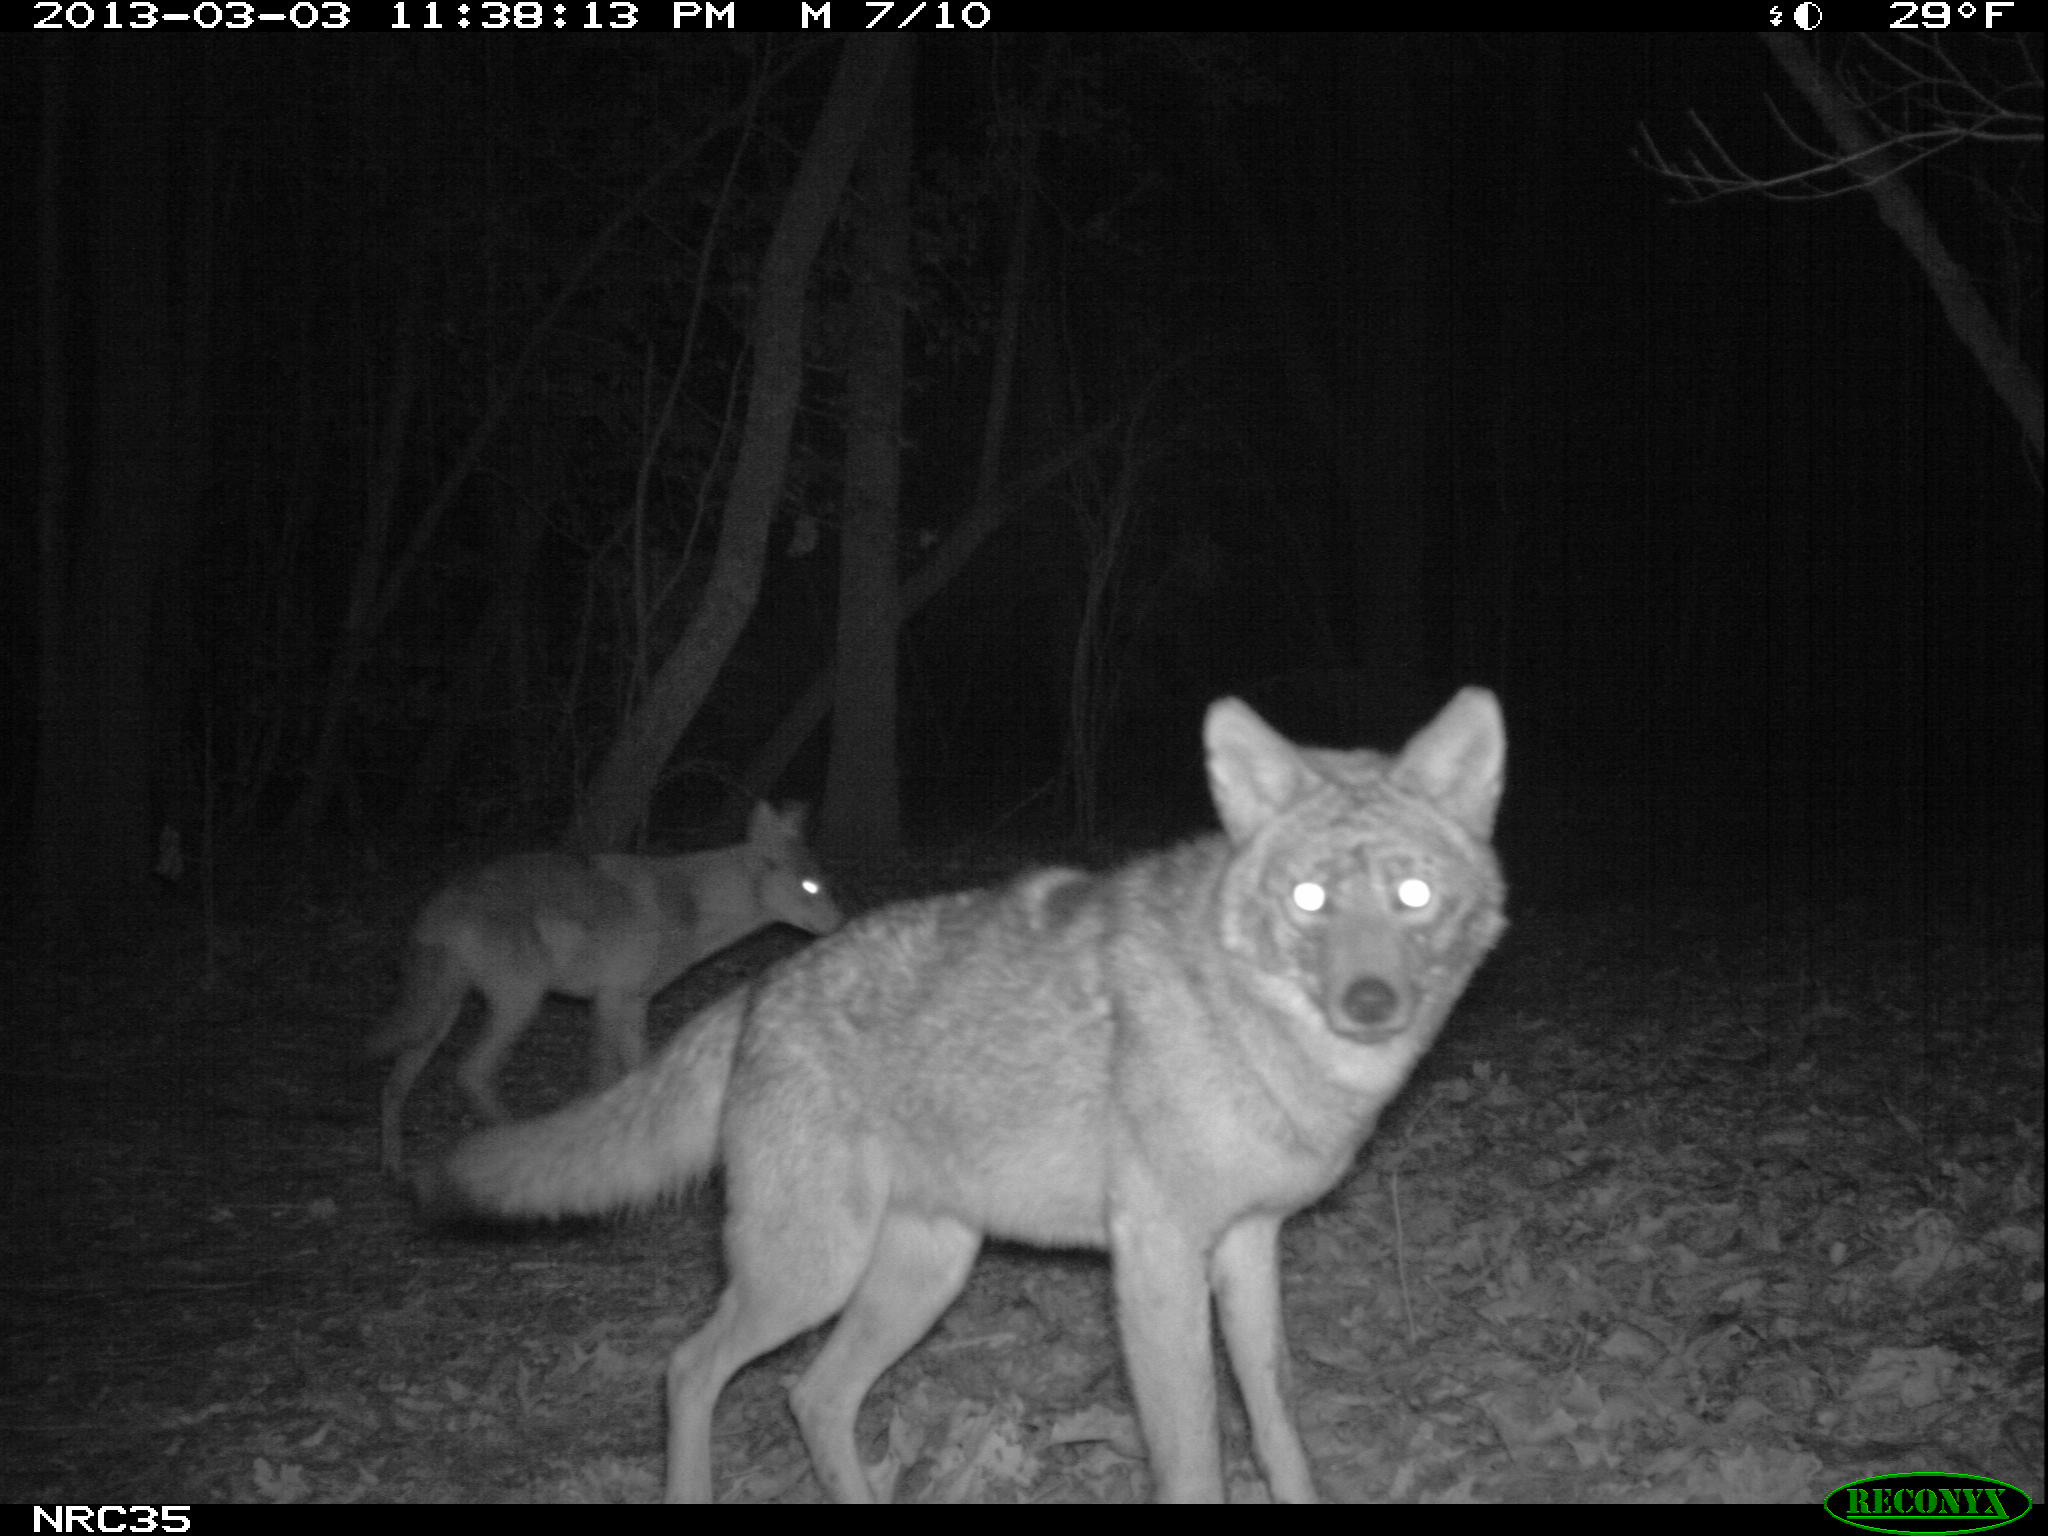coyote: (477, 671, 1472, 1488), (302, 762, 839, 1162)
